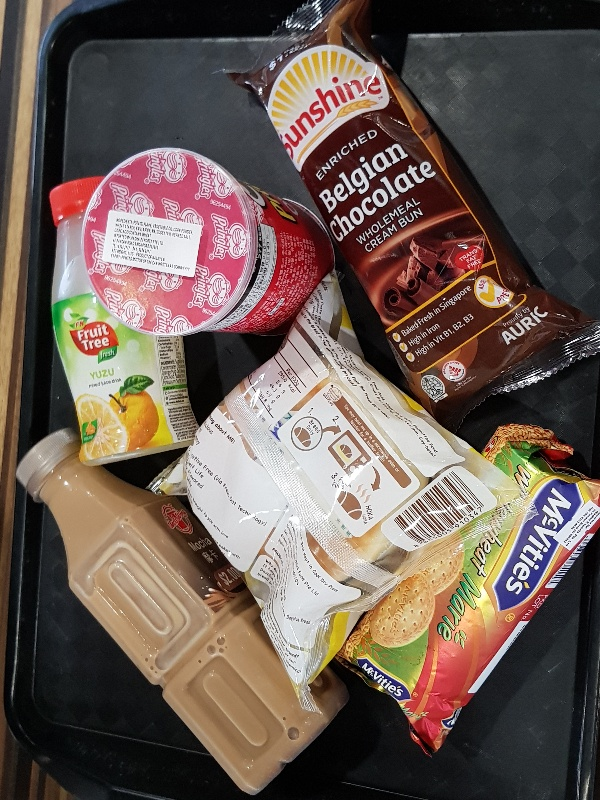Dayplus Red Bean: (145, 270, 518, 716)
Fruit Tree Yuzu Mixed Juice Drink: (45, 175, 200, 468)
McVitie's Wholewheat Marie: (335, 420, 600, 761)
Mocha: (16, 427, 351, 794)
Pringles Original: (81, 144, 334, 339)
Sunshine Belgium Chocolate Wholemeal Cream Bun: (230, 3, 599, 425)
